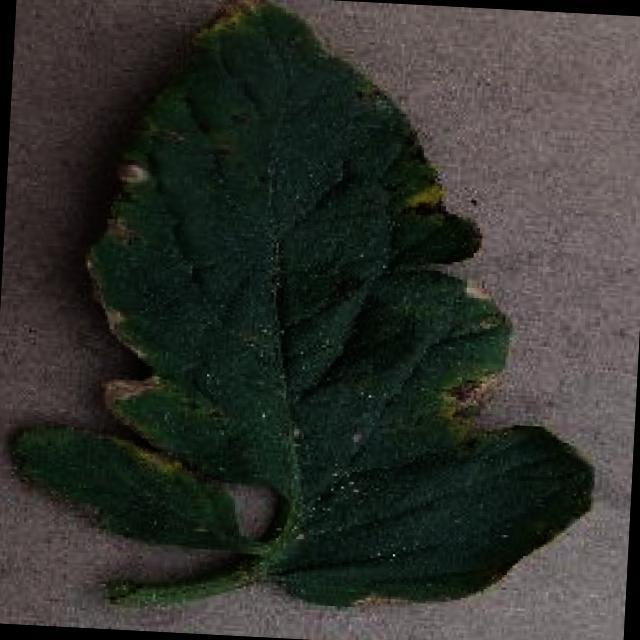Tomato bacterial spot leaf: (3, 0, 623, 629)
